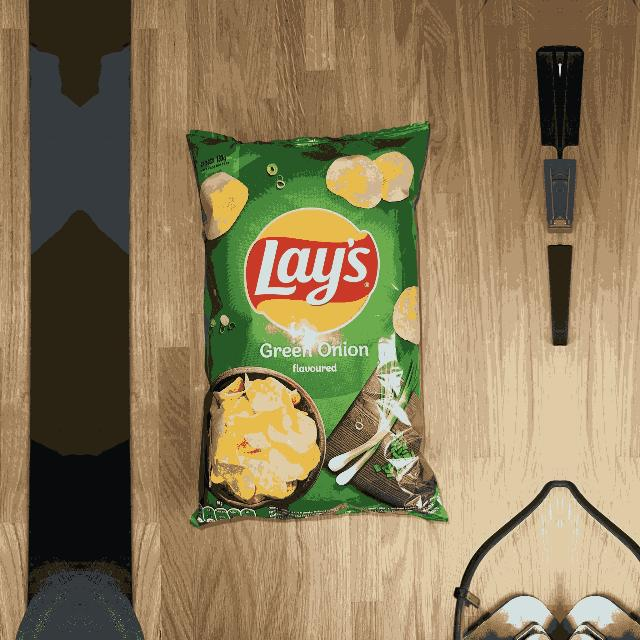lays: (245, 208, 381, 337)
